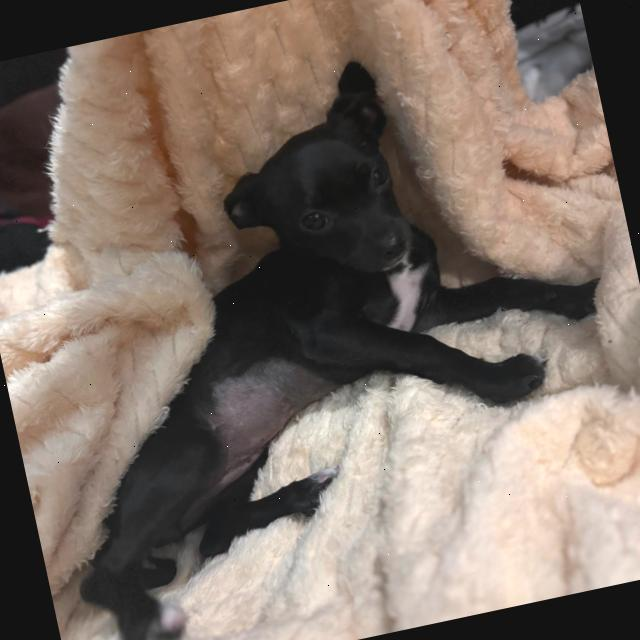chihuahua_dog: (194, 44, 446, 320)
